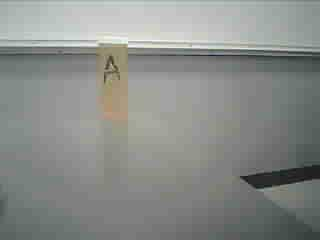Bottle A: (91, 29, 145, 137)
